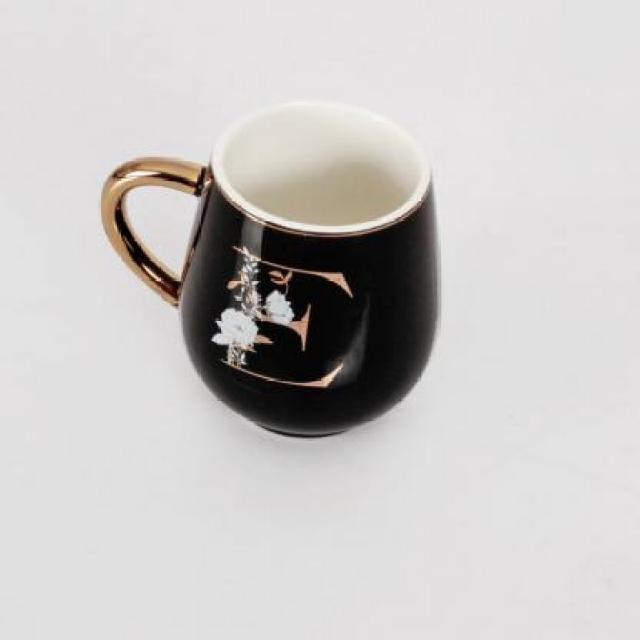taza: (98, 101, 442, 442)
